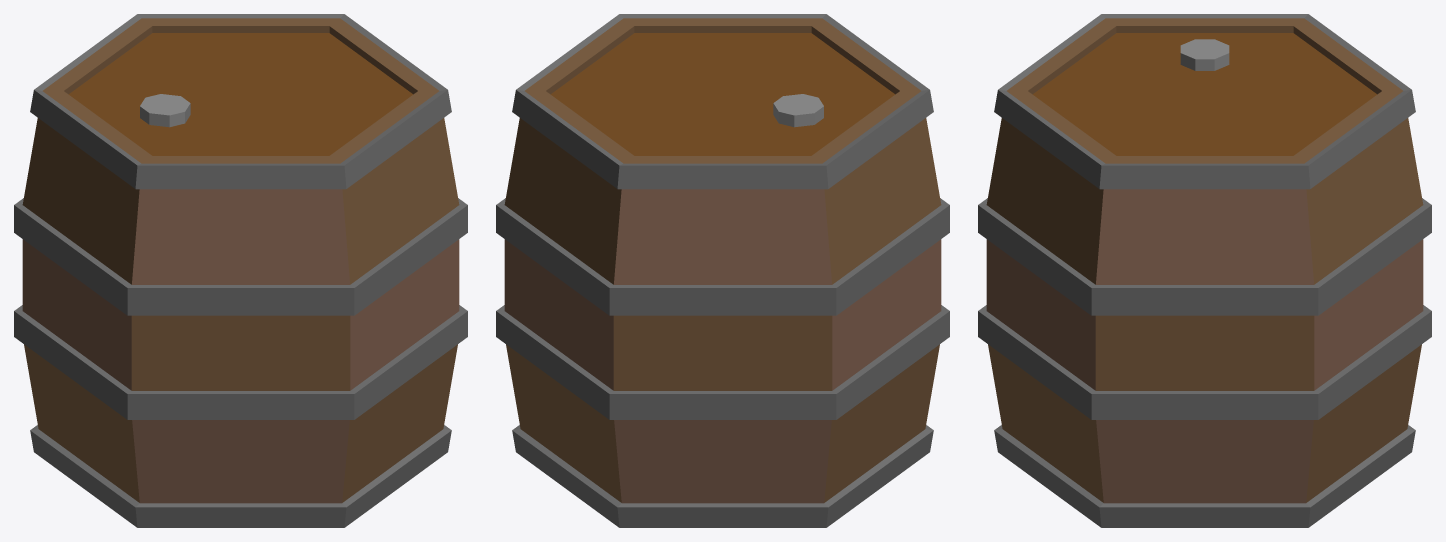
The model's file is Small Barrel.fbx.
3 renders of one model, left to right at view 1: azimuth 30°, elevation 25°; view 2: azimuth 150°, elevation 25°; view 3: azimuth 270°, elevation 25°, orthographic.
Parts seen in each view (by area): view 1: Small Barrel; view 2: Small Barrel; view 3: Small Barrel.
Part boxes in pixels (x1,y1,x2,y2): Small Barrel: (14,14,467,527); Small Barrel: (496,14,949,527); Small Barrel: (978,14,1431,527).
Bounding box in the file's own units: 1.98 × 2.03 × 2.29.
